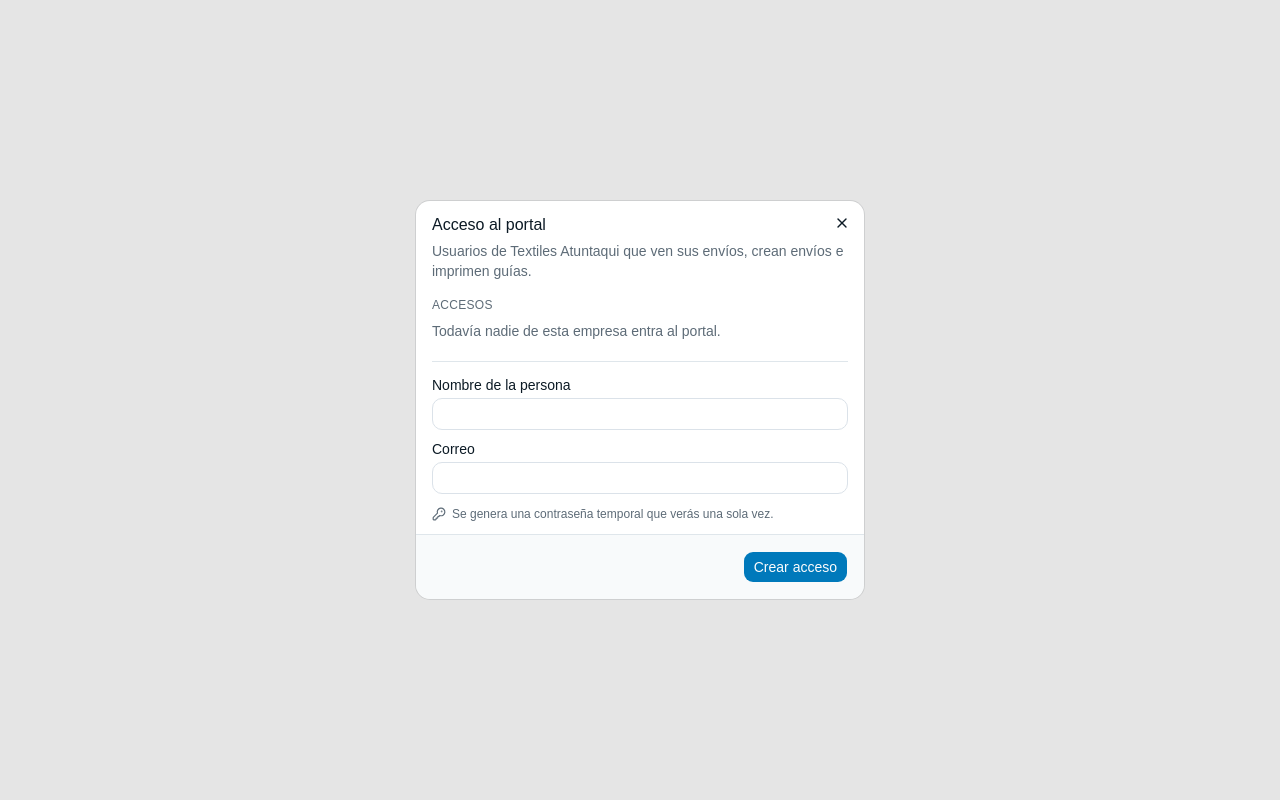
AccesosPortalDialog › un correo repetido se marca en el campo
Sin accesos el formulario aparece directamente.
In the field labelled "Nombre de la persona": (640, 414) [432, 398, 848, 430], type "Pedro Ruiz"
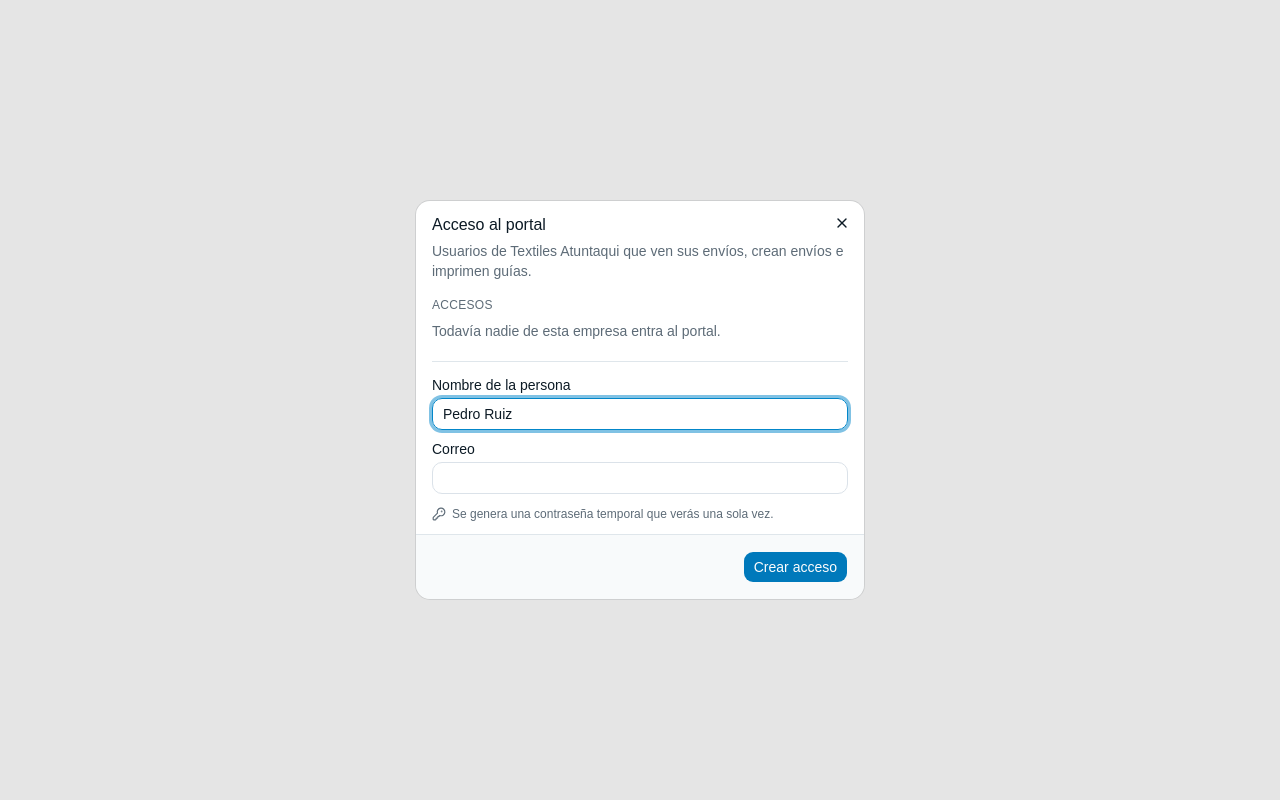
In the field labelled "Correo": (640, 478) [432, 462, 848, 494], type "pedro@textiles.ec"
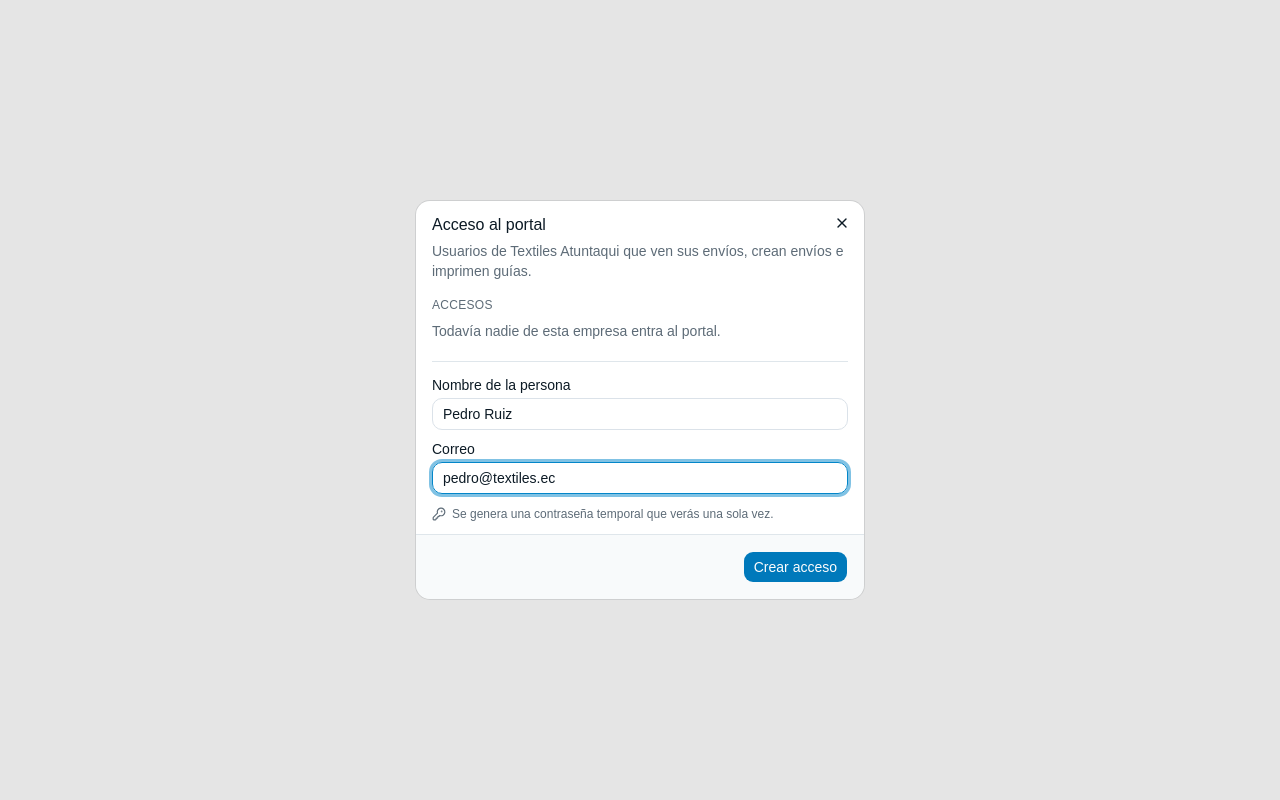
Click the button "Crear acceso": (795, 567) [743, 551, 848, 583]
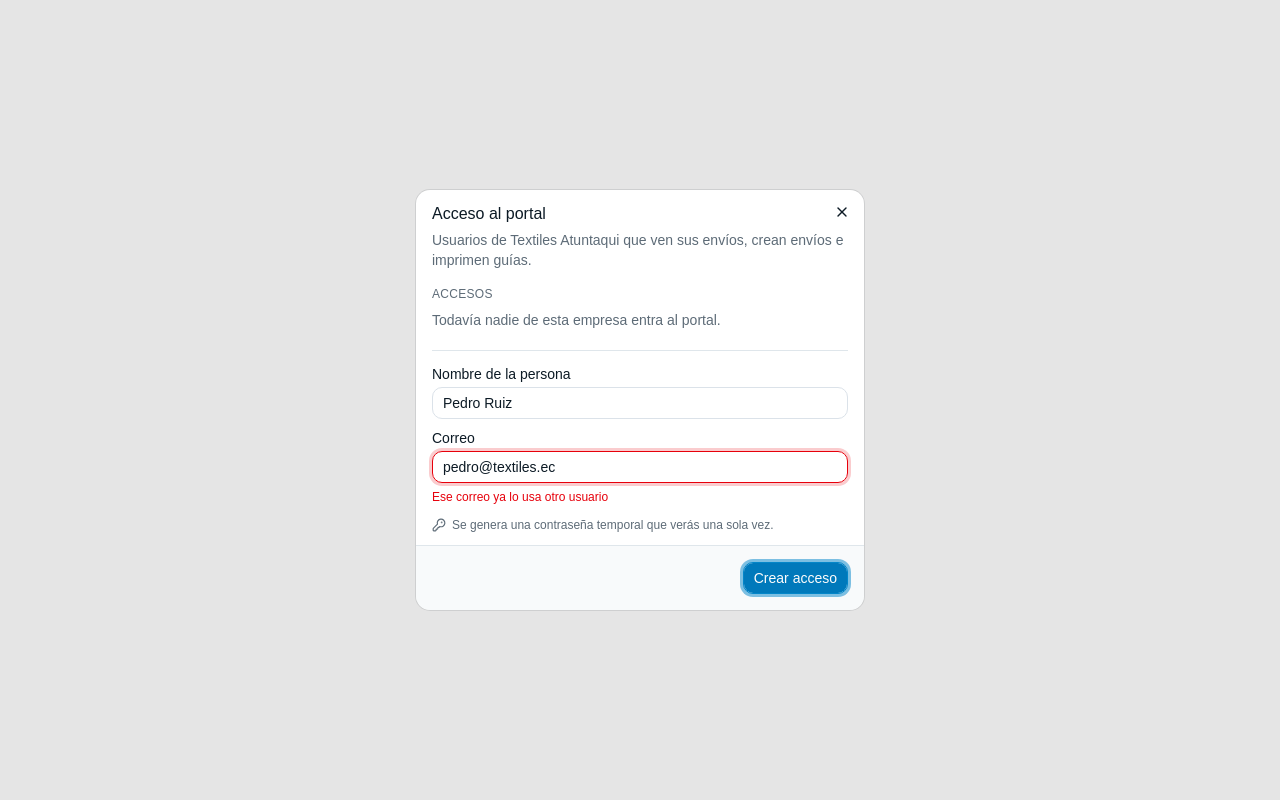
Expected: the text "Ese correo ya lo usa otro usuario" is shown, [432, 490, 608, 504]
